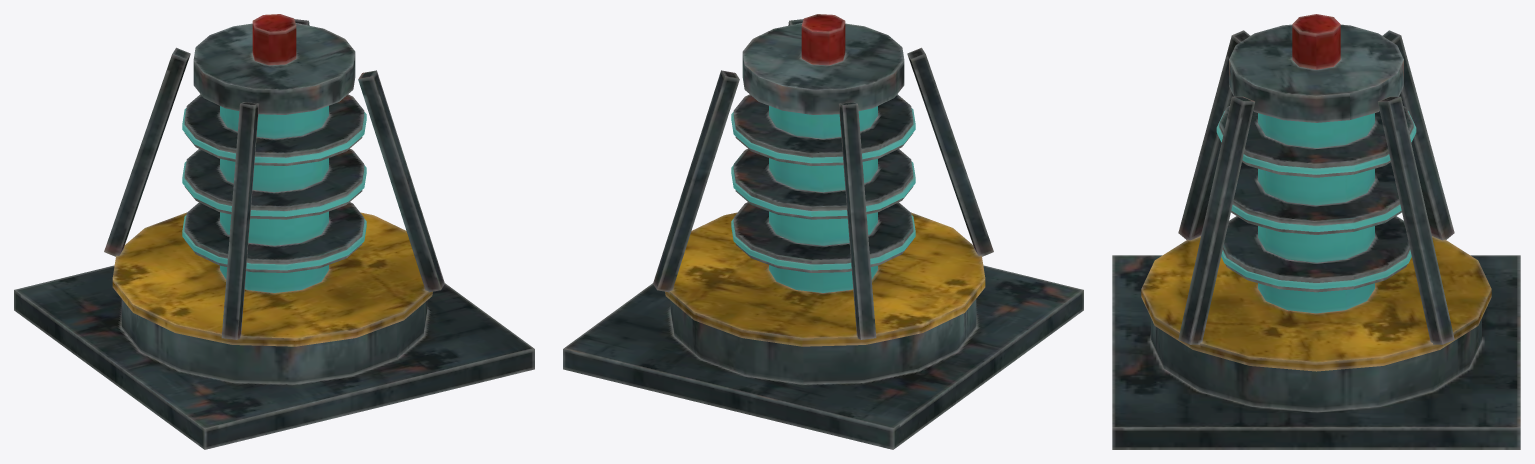
The model's file is core_module.glb.
3 renders of one model, left to right at view 1: azimuth 30°, elevation 25°; view 2: azimuth 150°, elevation 25°; view 3: azimuth 270°, elevation 25°, orthographic. The views are drawn at different scales.
Parts seen in each view (by area): view 1: te_core_module; view 2: te_core_module; view 3: te_core_module.
Part boxes in pixels (<box>): te_core_module: <box>14,14,534,449</box>; te_core_module: <box>563,14,1083,449</box>; te_core_module: <box>1112,14,1520,449</box>.
Size of the model in its own units: 0.84 by 0.77 by 0.84.
Materials: 1 (1 with a texture image).
